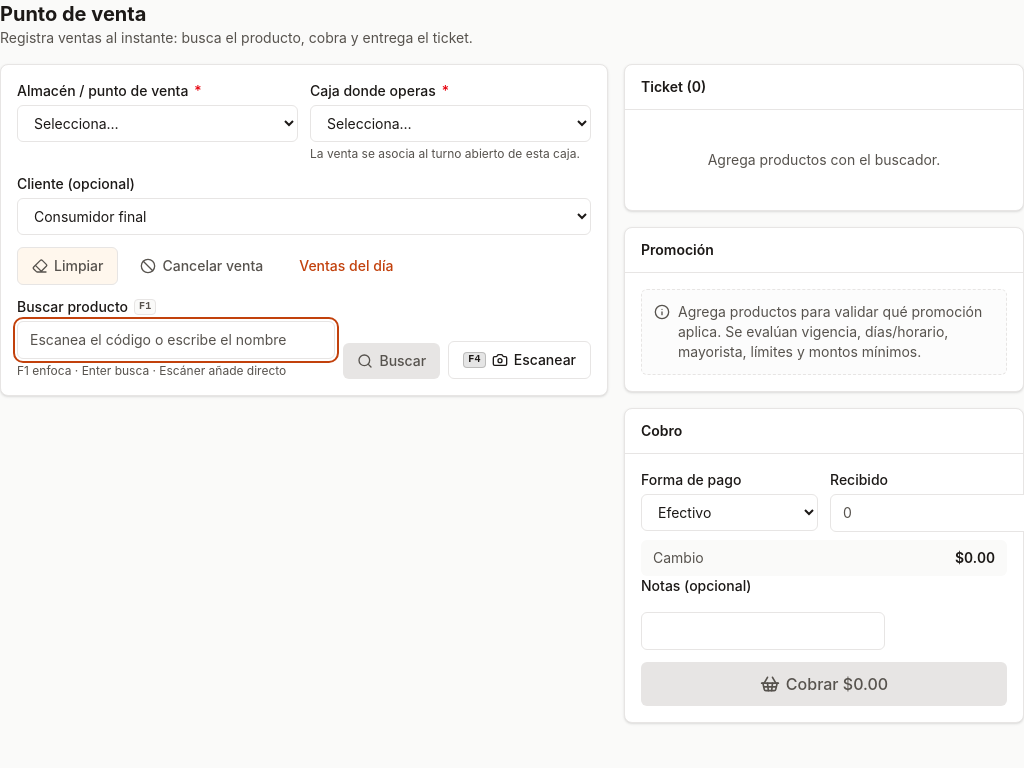
Test: PosPage › cancela la venta en curso desde el diálogo
Type "Martillo" into the field labelled "Buscar producto".
click(176, 340); type("Martillo")  # box [17,321,335,359]
Then press Enter
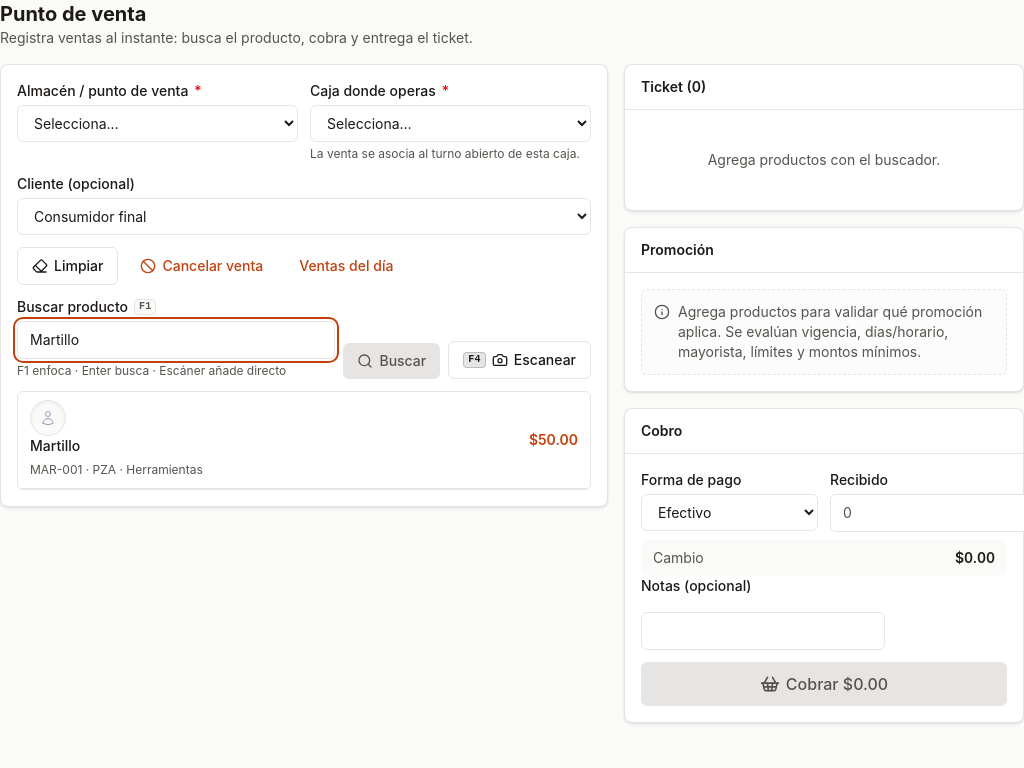
Click the button "Martillo MAR-001 · PZA · Herramientas $50.00".
click(48, 418)  # box [18,392,590,489]
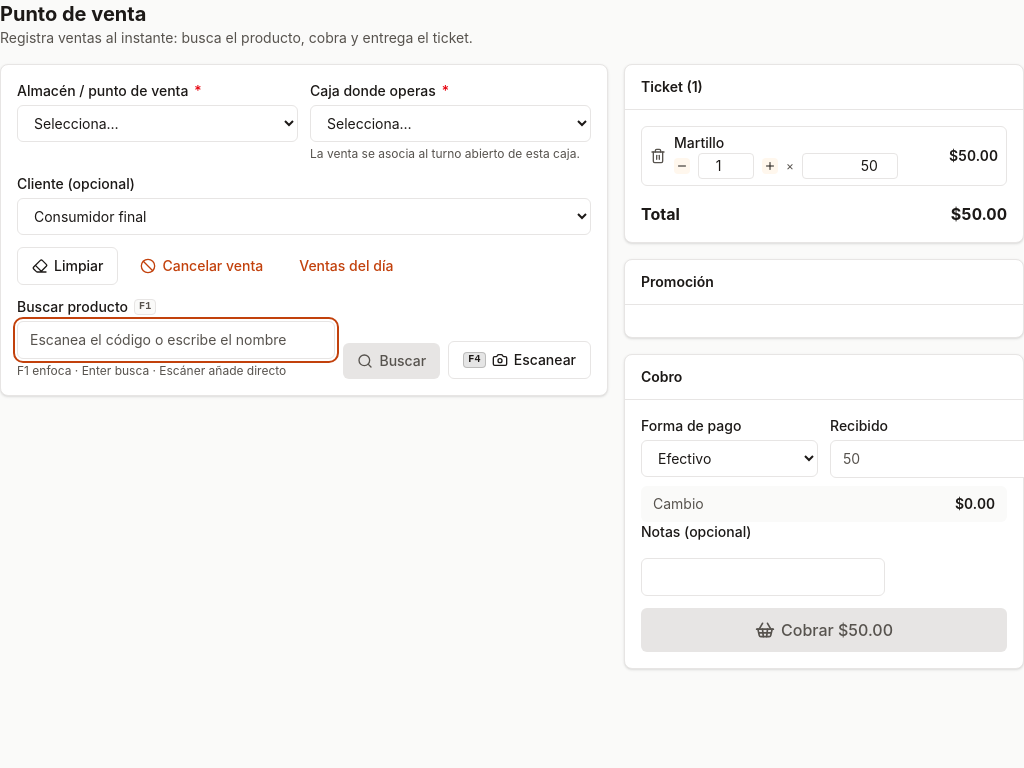
Check: the heading "Ticket (1)" is shown, box [641,77,703,97]
Click the button "Cancelar venta".
click(202, 266)  # box [126,247,277,285]
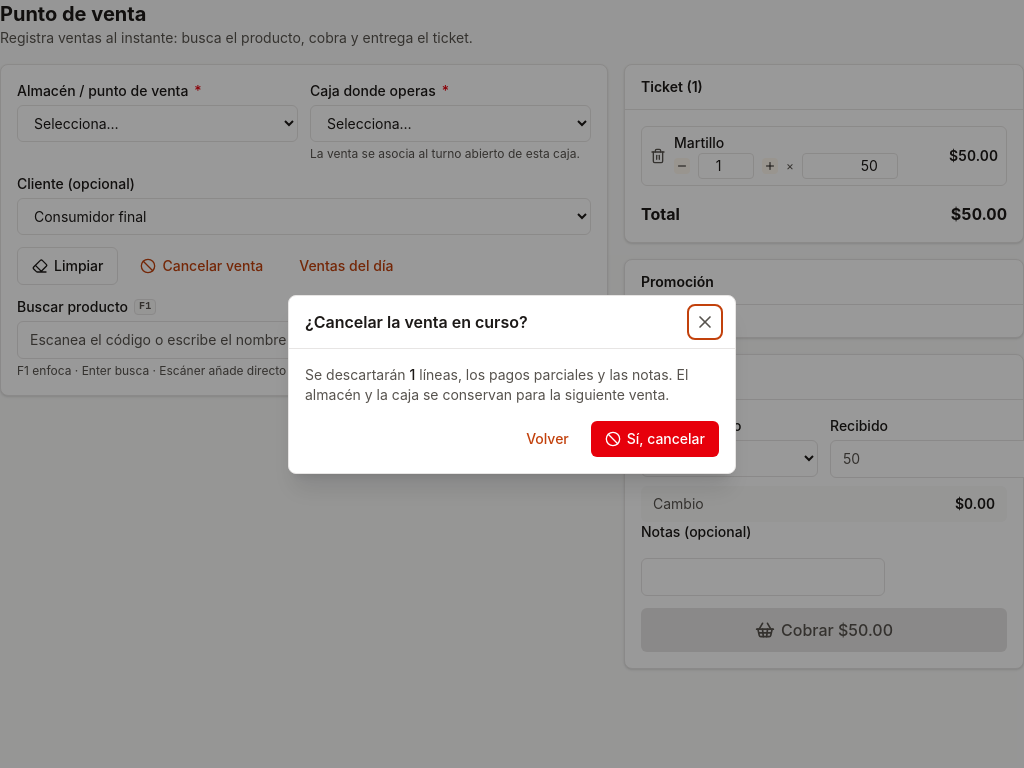
Check: the dialog "¿Cancelar la venta en curso?" is shown, box [288,294,736,474]
Click the button "Sí, cancelar".
click(655, 438)  # box [591,420,719,456]
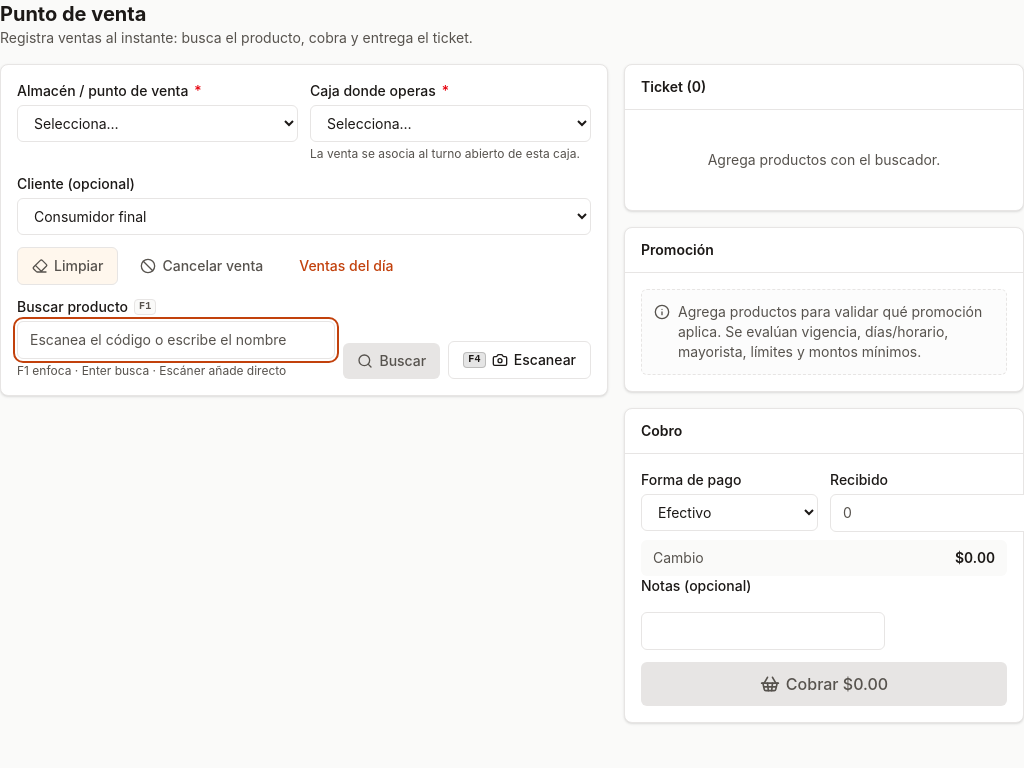
Check: the heading "Ticket (0)" is shown, box [641,77,706,97]
